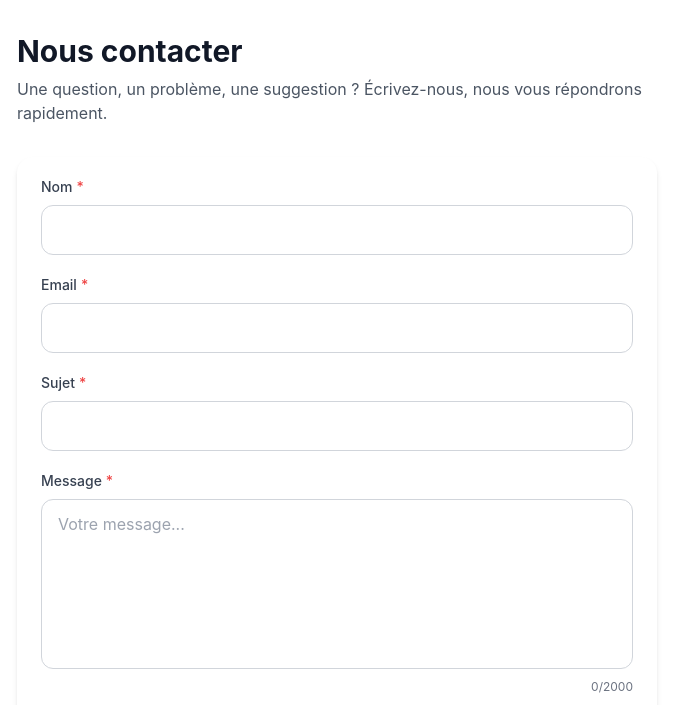
Test: ContactPage › shows an error message when the submission fails
The image size is (675, 705).
Type "Jean Dupont" into the field labelled "Nom*".
click(337, 230); type("Jean Dupont")  # box left=41, top=205, right=633, bottom=255
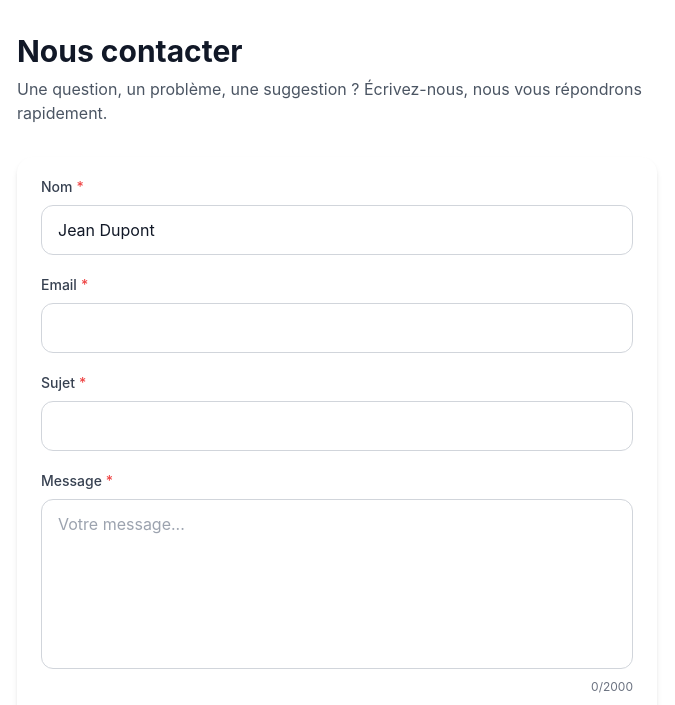
Type "jean@test.com" into the field labelled "Email*".
click(337, 328); type("jean@test.com")  # box left=41, top=303, right=633, bottom=353
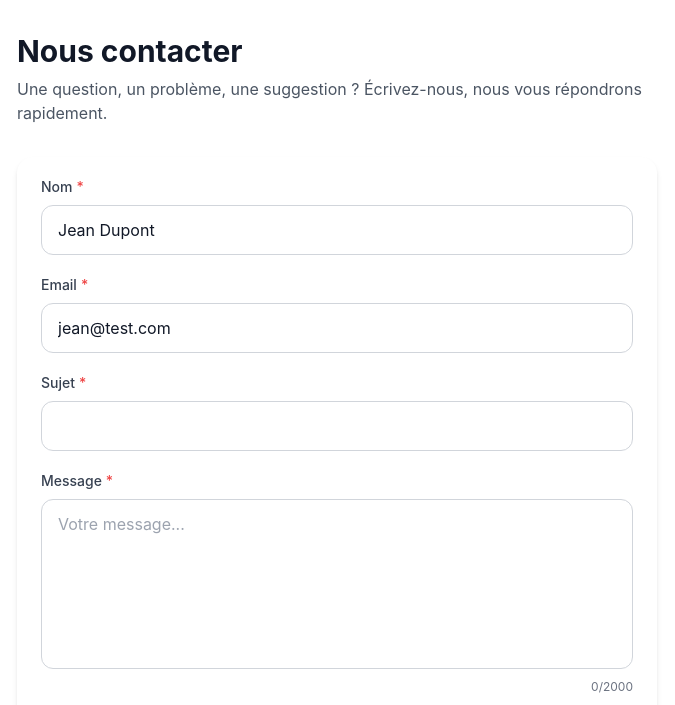
Type "Question sur un événement" into the field labelled "Sujet*".
click(337, 426); type("Question sur un événement")  # box left=41, top=401, right=633, bottom=451
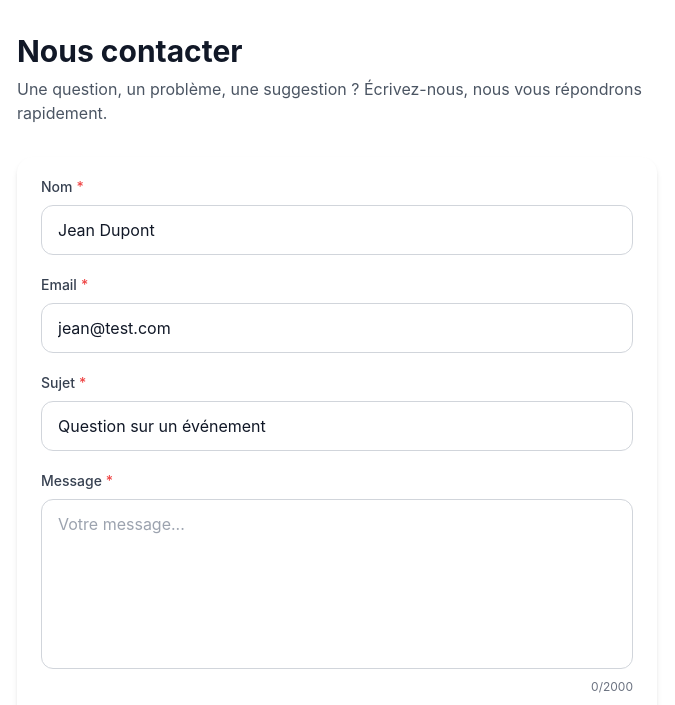
Type "Bonjour, les billets sont-ils remboursables ?" into the text box labelled "Message *".
click(337, 584); type("Bonjour, les billets sont-ils remboursables ?")  # box left=41, top=499, right=633, bottom=669
(page scrolled)
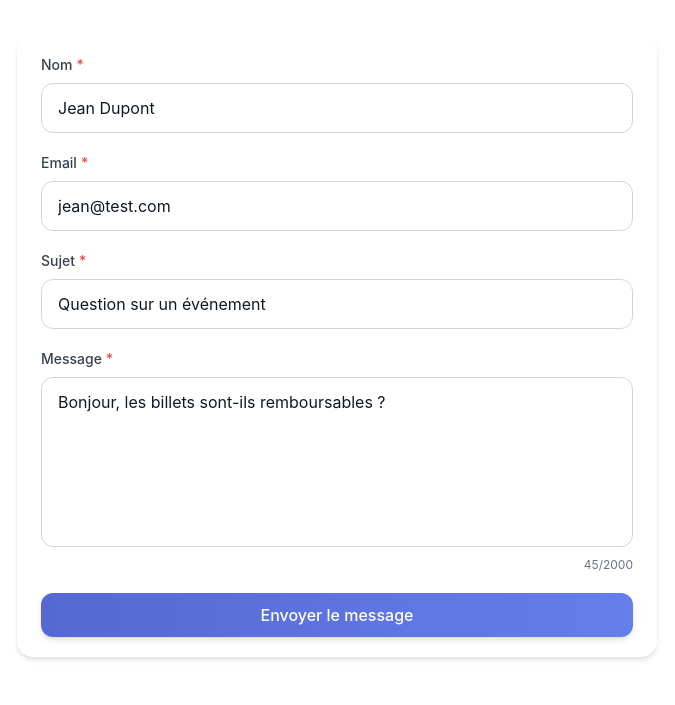
Click the button "Envoyer le message".
click(337, 615)  # box left=41, top=593, right=633, bottom=637
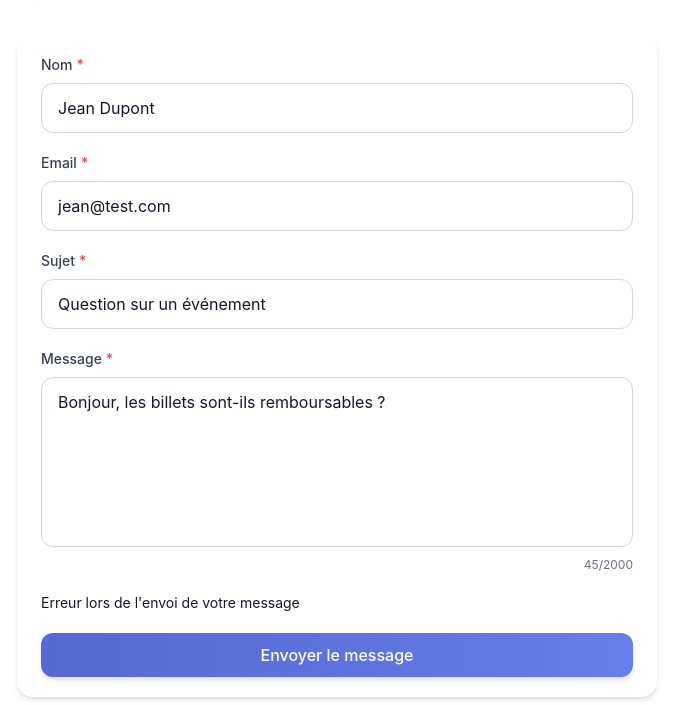
Expected: the message reads "Erreur lors de l'envoi de votre message", left=41, top=594, right=300, bottom=611
